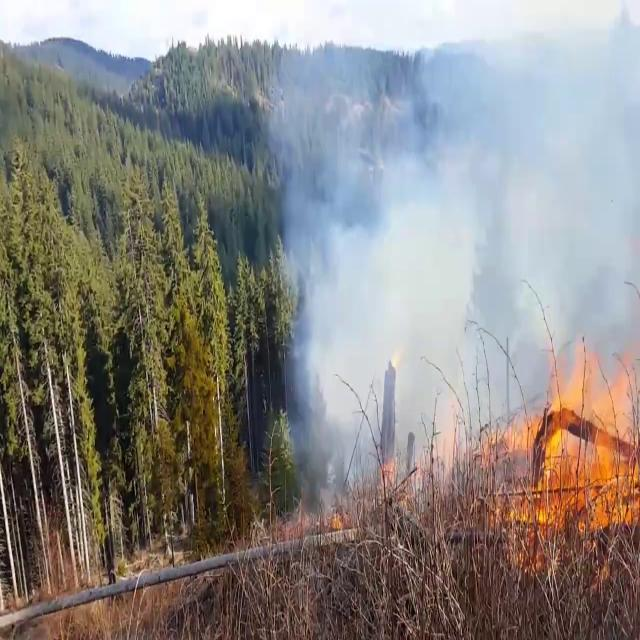Fire: (512, 312, 640, 558)
Smoke: (267, 0, 640, 499)
